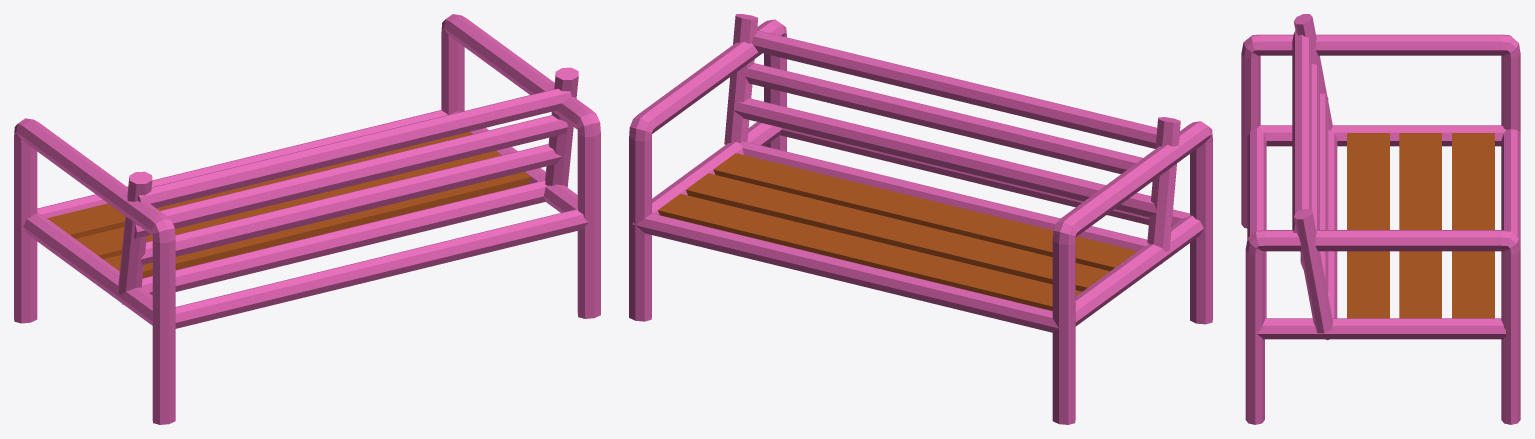
Rendered from banquito_humilde.fbx.
The picture shows the model from 3 angles, left to right: view 1: azimuth 30°, elevation 25°; view 2: azimuth 150°, elevation 25°; view 3: azimuth 270°, elevation 25°; orthographic projection. The views are drawn at different scales.
Parts seen in each view (by area): view 1: Cylinder.005, Cube; view 2: Cylinder.005, Cube; view 3: Cylinder.005, Cube.
Part boxes in pixels (<box>): Cylinder.005: <box>14,14,600,424</box>; Cube: <box>47,132,531,277</box>; Cylinder.005: <box>629,14,1212,424</box>; Cube: <box>658,153,1137,310</box>; Cylinder.005: <box>1241,14,1520,424</box>; Cube: <box>1347,133,1494,318</box>.
Size of the model in its own units: 170 by 80 by 96.75.
